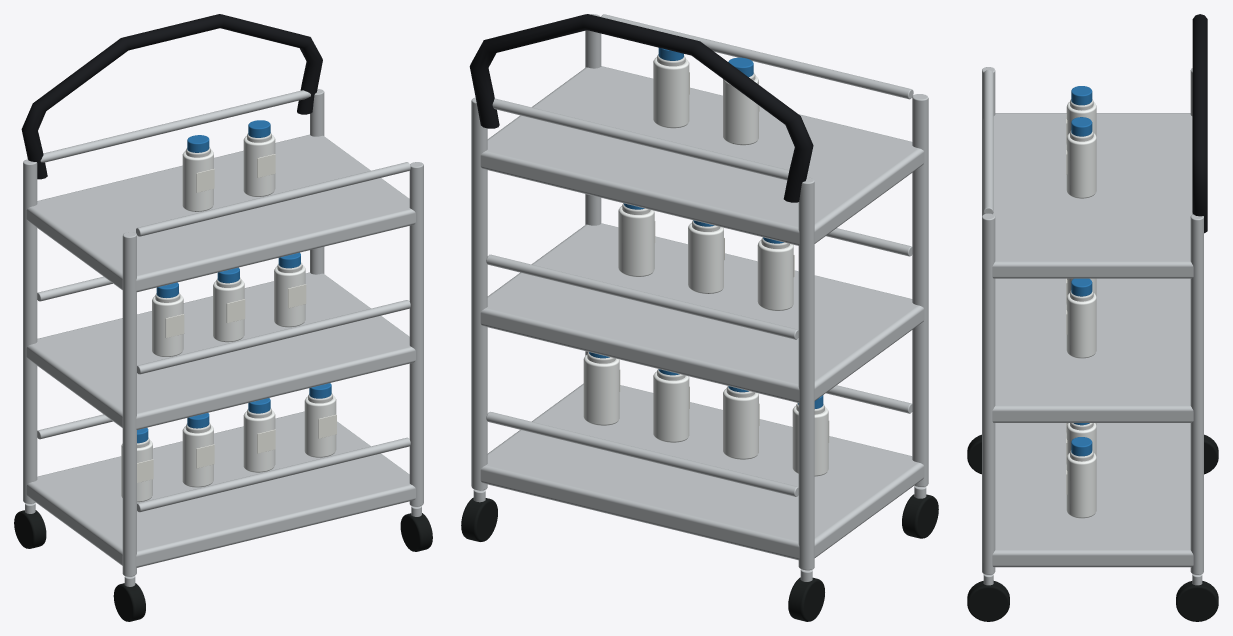
File: rolling-bottle-cart.glb
The picture shows the model from 3 angles, left to right: view 1: azimuth 30°, elevation 25°; view 2: azimuth 150°, elevation 25°; view 3: azimuth 270°, elevation 25°; orthographic projection. The views are drawn at different scales.
Parts seen in each view (by area): view 1: Runtime batch - Brushed stainless steel, Runtime batch - Laboratory white polymer, Runtime batch - Matte black coated handle, Runtime batch - Matte equipment label, Runtime batch - Black leveling-foot rubber, Runtime batch - Technical label blue, Runtime batch - Warm gray powder coat highlight; view 2: Runtime batch - Brushed stainless steel, Runtime batch - Laboratory white polymer, Runtime batch - Matte black coated handle, Runtime batch - Black leveling-foot rubber, Runtime batch - Warm gray powder coat highlight, Runtime batch - Technical label blue; view 3: Runtime batch - Brushed stainless steel, Runtime batch - Laboratory white polymer, Runtime batch - Black leveling-foot rubber, Runtime batch - Matte black coated handle, Runtime batch - Technical label blue, Runtime batch - Warm gray powder coat highlight.
Boxes of the visible parts, <box> form: Runtime batch - Brushed stainless steel: <box>23,89,423,586</box>; Runtime batch - Laboratory white polymer: <box>121,135,336,502</box>; Runtime batch - Matte black coated handle: <box>21,14,322,179</box>; Runtime batch - Matte equipment label: <box>137,154,336,482</box>; Runtime batch - Black leveling-foot rubber: <box>14,510,432,621</box>; Runtime batch - Technical label blue: <box>137,120,331,443</box>; Runtime batch - Warm gray powder coat highlight: <box>137,132,332,447</box>; Runtime batch - Brushed stainless steel: <box>471,14,928,581</box>; Runtime batch - Laboratory white polymer: <box>583,57,828,476</box>; Runtime batch - Matte black coated handle: <box>469,14,813,202</box>; Runtime batch - Black leveling-foot rubber: <box>461,494,938,621</box>; Runtime batch - Warm gray powder coat highlight: <box>587,54,824,414</box>; Runtime batch - Technical label blue: <box>589,47,823,408</box>; Runtime batch - Brushed stainless steel: <box>982,67,1203,585</box>; Runtime batch - Laboratory white polymer: <box>1066,102,1096,518</box>; Runtime batch - Black leveling-foot rubber: <box>967,434,1218,621</box>; Runtime batch - Matte black coated handle: <box>1192,14,1207,233</box>; Runtime batch - Technical label blue: <box>1071,86,1092,456</box>; Runtime batch - Warm gray powder coat highlight: <box>1070,99,1093,461</box>.
Size of the model in its own units: 0.65 by 1 by 0.45.
